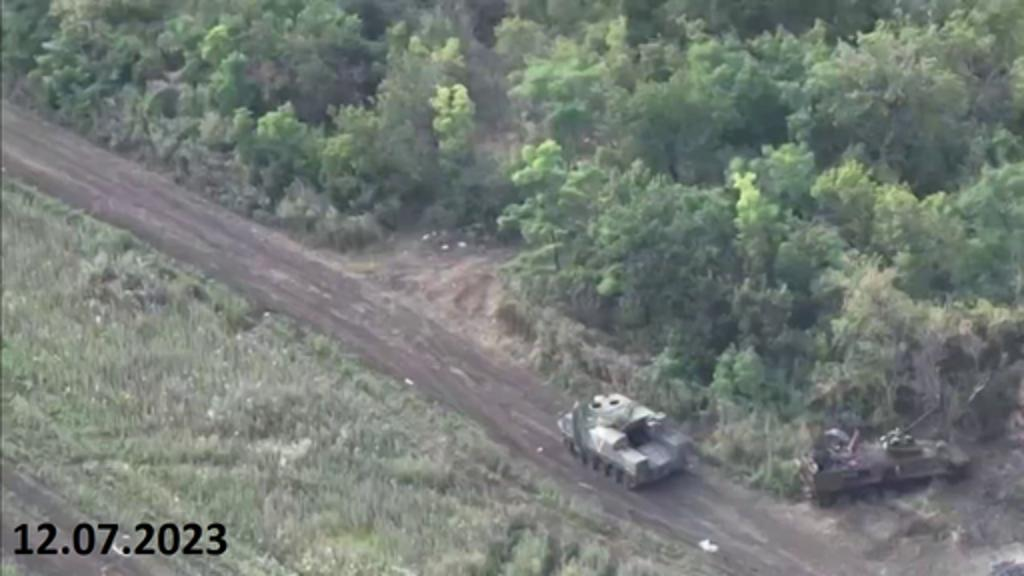APC-IFV: (790, 410, 978, 504), (550, 376, 690, 490)
